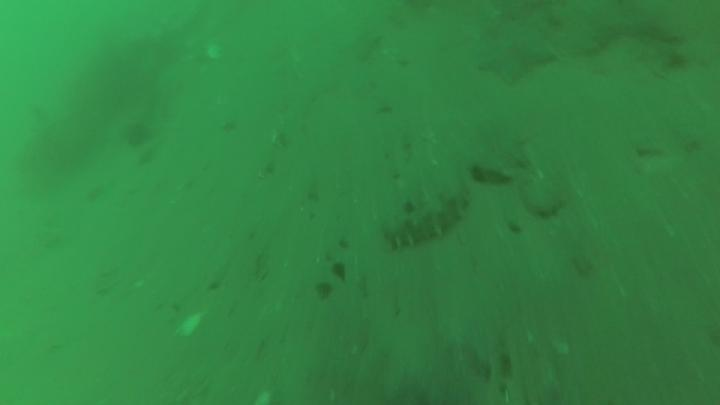holothurian: (386, 184, 470, 248)
starfish: (478, 39, 553, 85)
